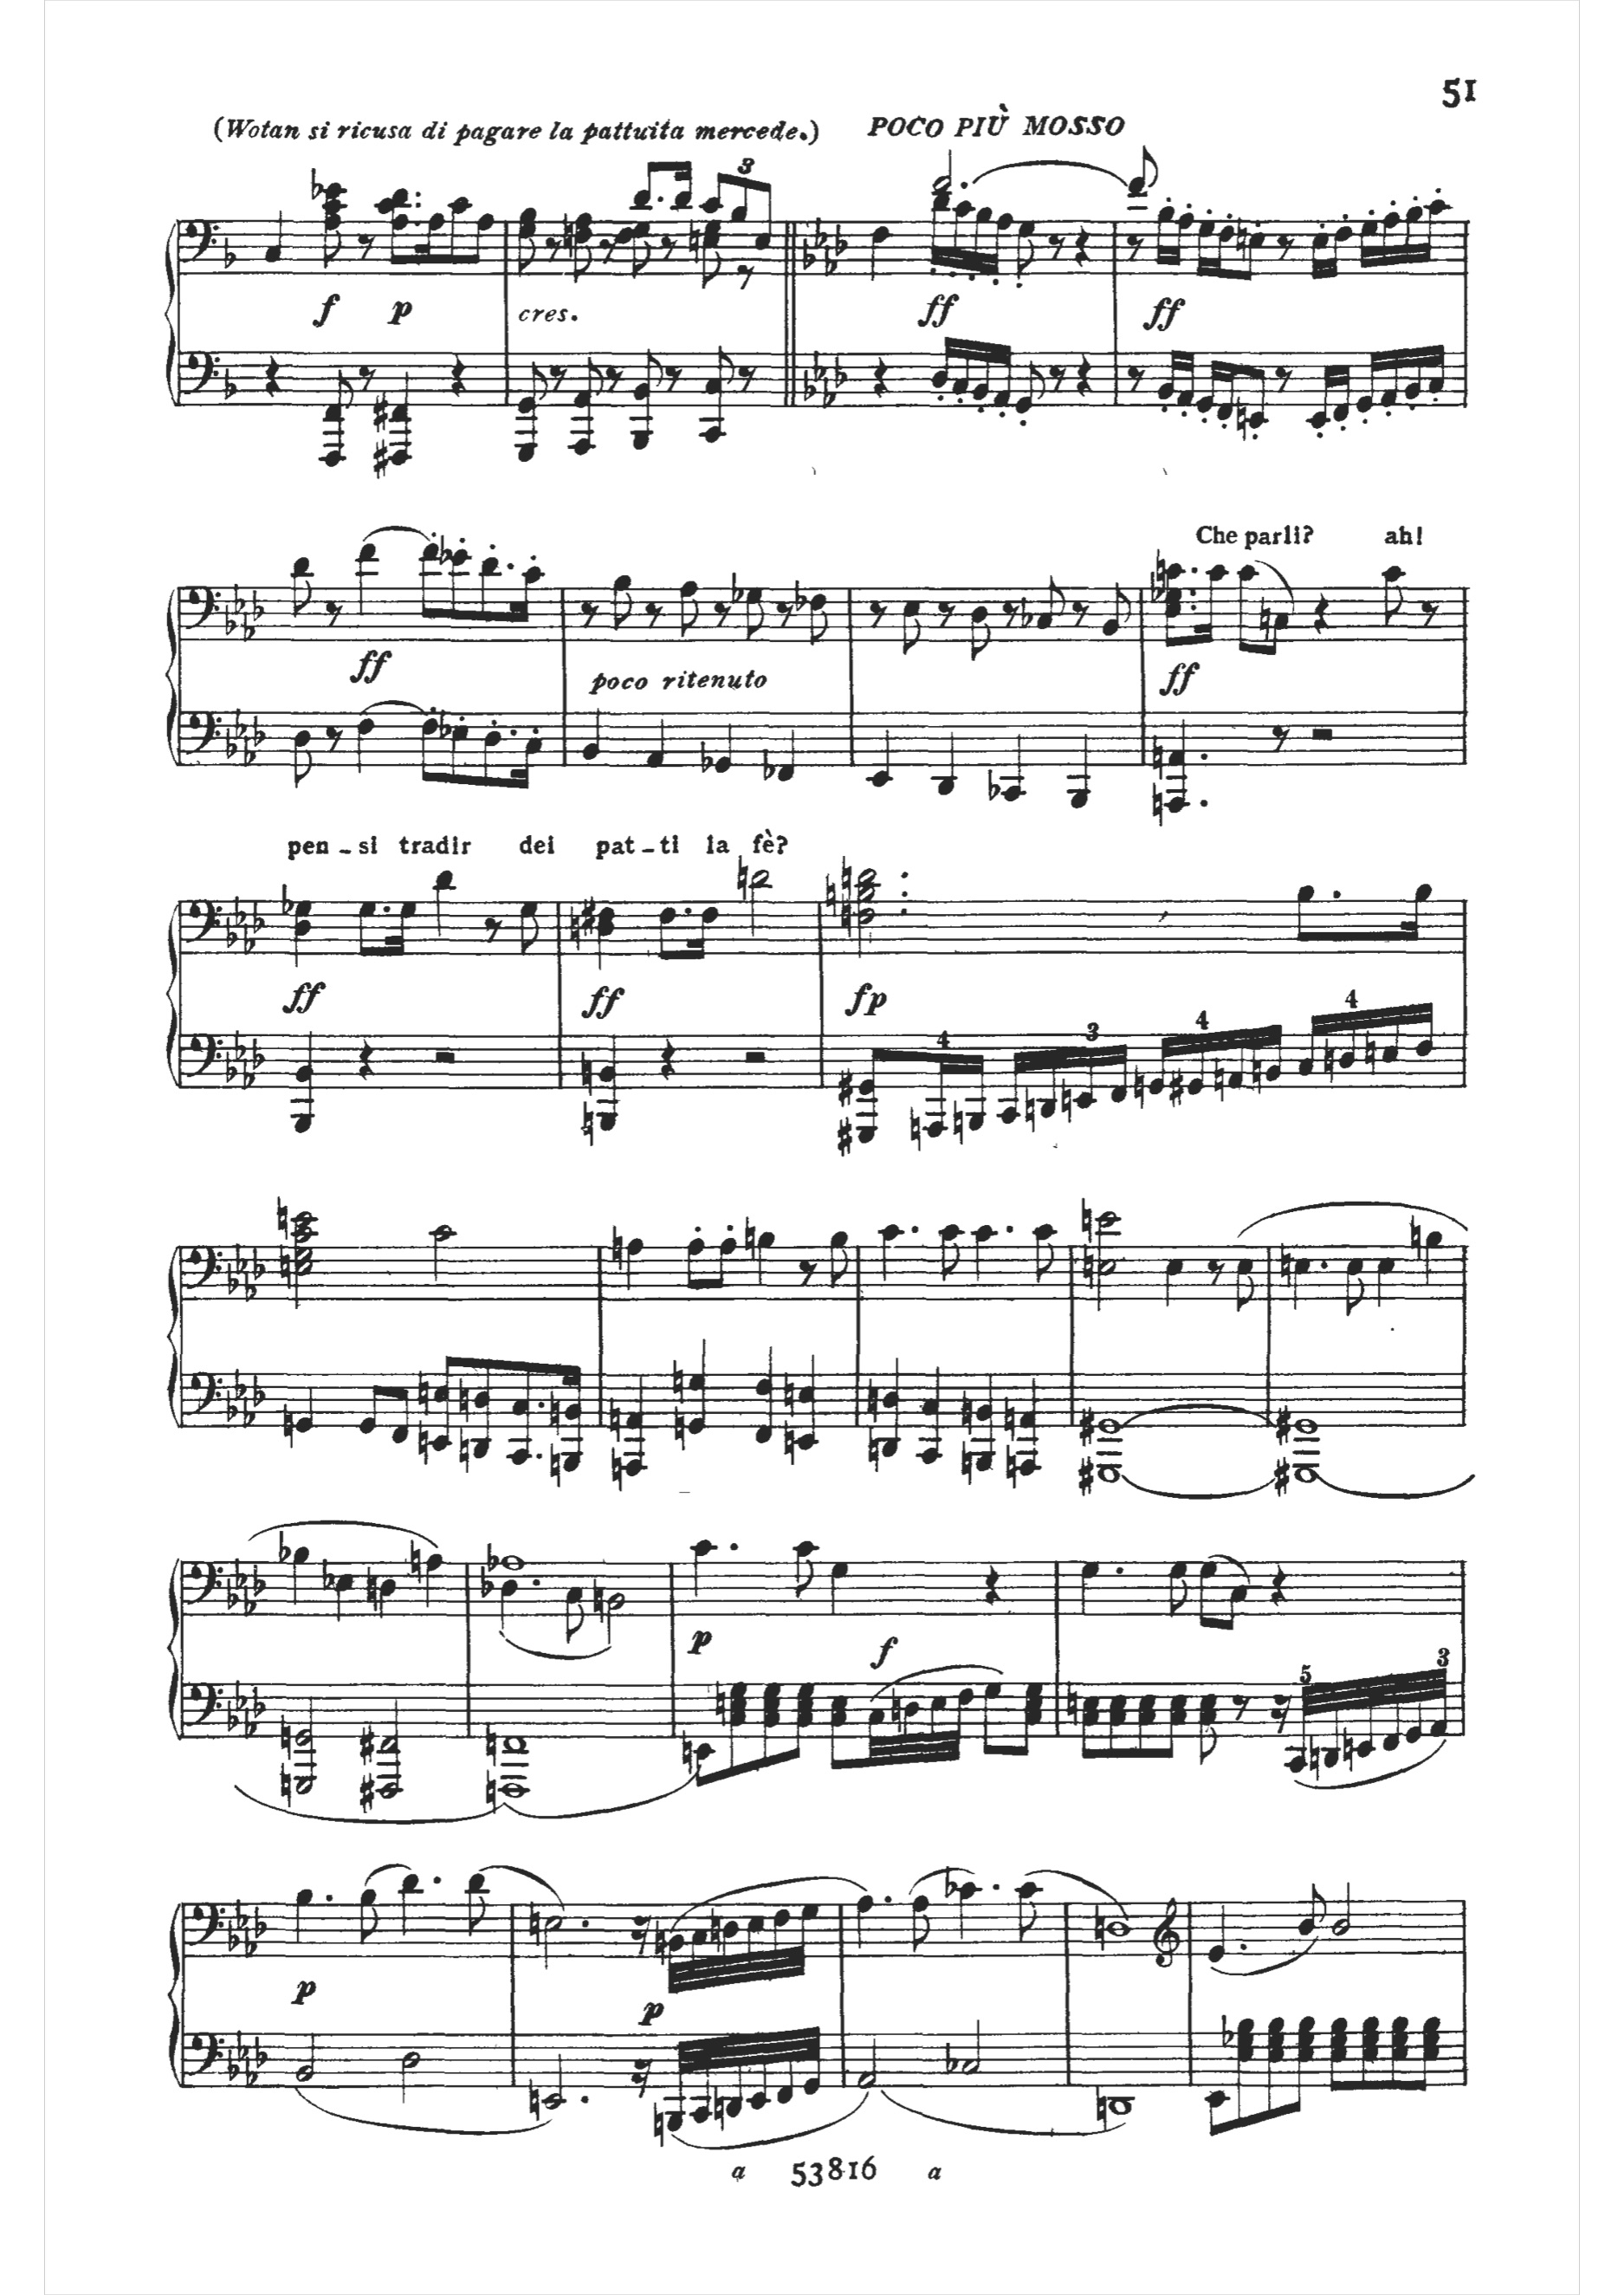bass_clef: (185, 1894, 225, 1961), (181, 211, 221, 276), (183, 1239, 227, 1297), (185, 889, 223, 954), (188, 2023, 227, 2084), (183, 706, 223, 763), (188, 1675, 225, 1736), (185, 1365, 223, 1423), (185, 1030, 225, 1084), (185, 1555, 225, 1610), (183, 346, 221, 401), (185, 582, 221, 638)
flat: (250, 1371, 271, 1411), (220, 601, 241, 640), (251, 1559, 271, 1601), (223, 1256, 241, 1302), (241, 923, 260, 963), (239, 612, 260, 648), (250, 894, 267, 938), (220, 235, 239, 274), (251, 1244, 271, 1283), (251, 1903, 271, 1940), (232, 891, 250, 931), (250, 1032, 267, 1072), (221, 366, 241, 401), (250, 583, 267, 622), (223, 1390, 241, 1429), (241, 1582, 258, 1620), (223, 1698, 241, 1736), (248, 1683, 267, 1719), (223, 2045, 241, 2084), (243, 2052, 260, 2091), (243, 1271, 260, 1307), (230, 1365, 248, 1402), (232, 1553, 250, 1590), (251, 2033, 269, 2070), (223, 916, 239, 956), (239, 1394, 257, 1429), (243, 1926, 260, 1961), (234, 2026, 250, 2065), (239, 1060, 257, 1093), (230, 578, 246, 615), (223, 728, 239, 764), (225, 1919, 241, 1956), (243, 735, 258, 770), (234, 1241, 250, 1276), (243, 1708, 258, 1743), (232, 710, 248, 743), (225, 1580, 241, 1613), (223, 1049, 237, 1086), (253, 713, 267, 749), (234, 1675, 246, 1713), (232, 1028, 246, 1061), (236, 1898, 248, 1931)
